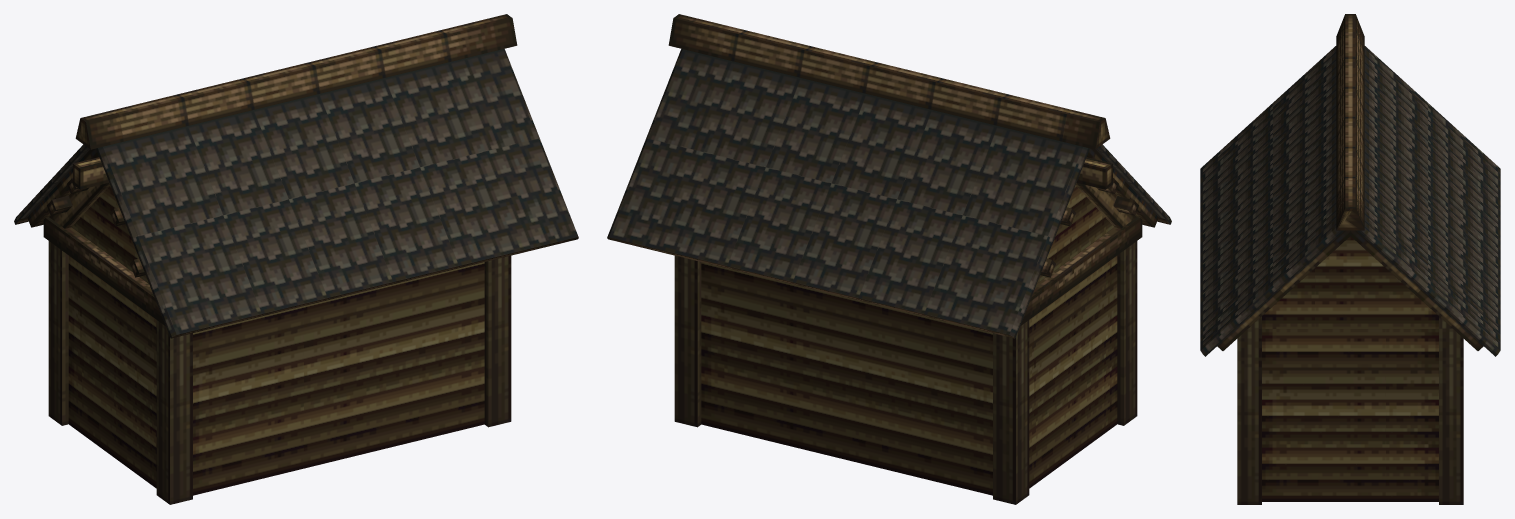
File: EnvBdgMD_WoodHouse_A_Outdoor_House_A.FBX
3 views of the same model, side by side, from view 1: azimuth 30°, elevation 25°; view 2: azimuth 150°, elevation 25°; view 3: azimuth 270°, elevation 25° (orthographic). The views are drawn at different scales.
Visible parts, largest first — view 1: EnvBdgMD_WoodHouse_A_Outdoor_House_A; view 2: EnvBdgMD_WoodHouse_A_Outdoor_House_A; view 3: EnvBdgMD_WoodHouse_A_Outdoor_House_A.
Part boxes in pixels (x1,y1,x2,y2): EnvBdgMD_WoodHouse_A_Outdoor_House_A: (14,14,578,504); EnvBdgMD_WoodHouse_A_Outdoor_House_A: (607,14,1171,504); EnvBdgMD_WoodHouse_A_Outdoor_House_A: (1200,14,1500,504).
Size of the model in its own units: 660 by 505 by 424.
1 material, 1 textured.
